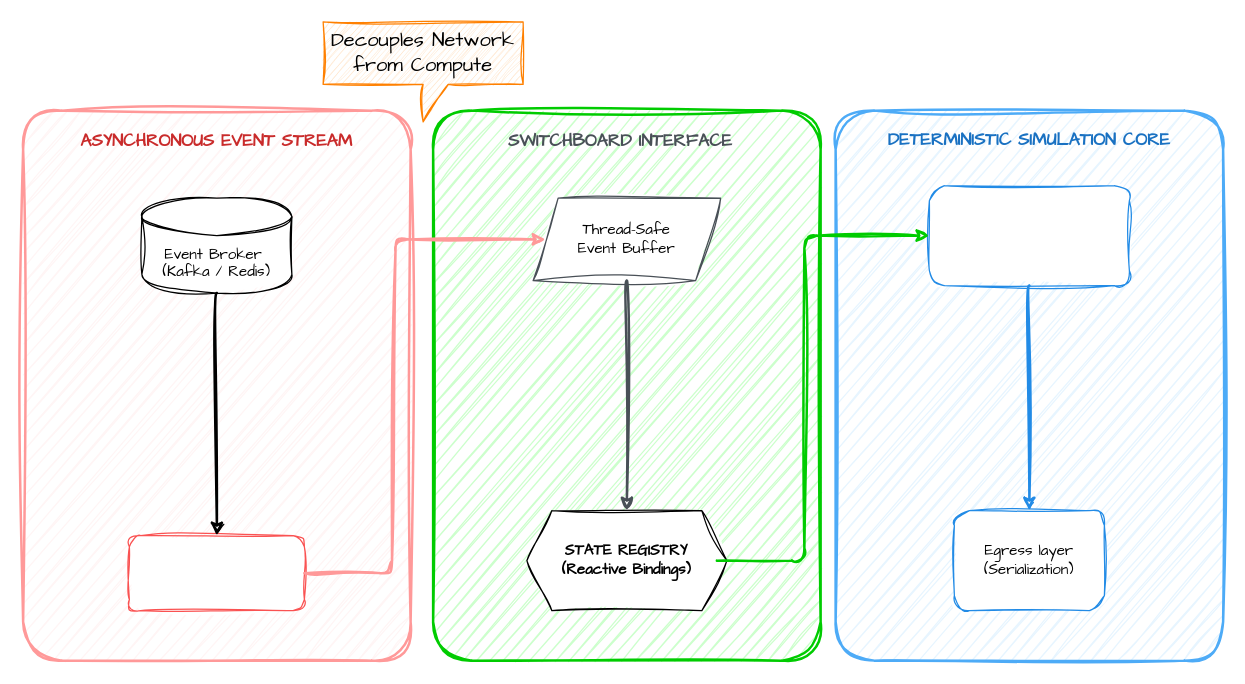
Image size: 1245x684. Some labels were removed from this diagram. The shapes that lost their labels are listed below. From the top down, each one's box as (x1, y1, x2, y2) in pixels, then its label:
(928, 184, 1129, 286): SimPy Process Loop (Logical Time)
(128, 534, 304, 611): Ingress Workers (Async Tasks)
